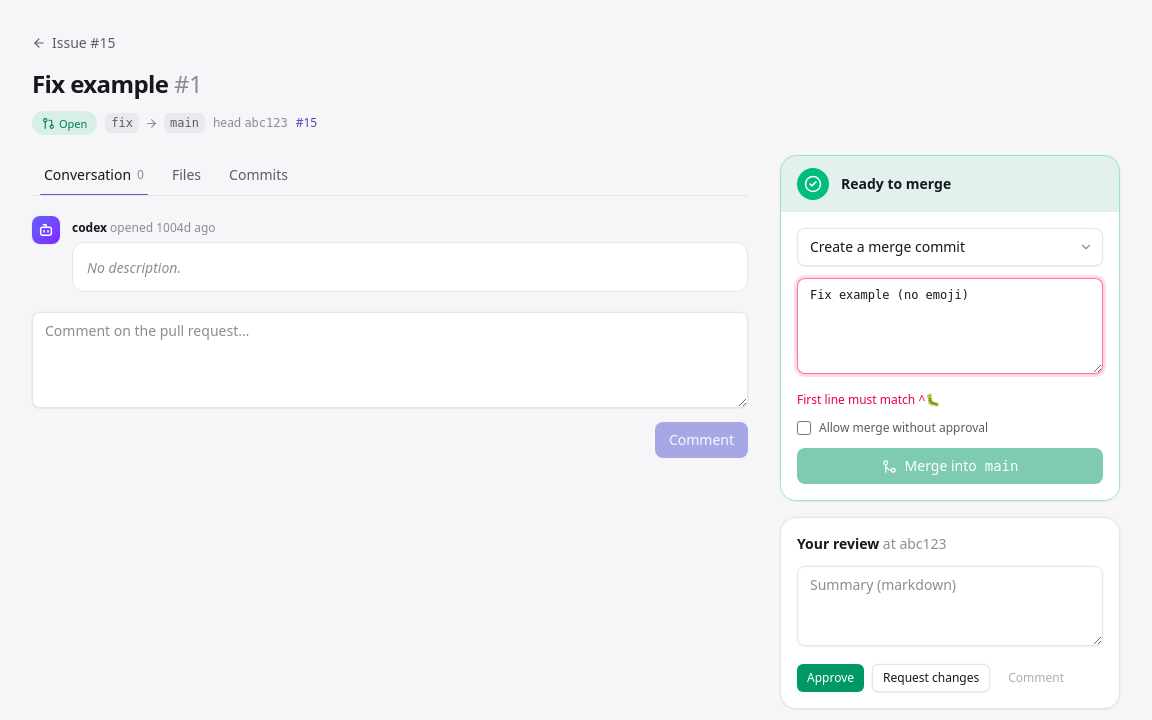
Test case: PullPage merge box strategy switching and gating › switching to rebase hides the message editor and skips message validation
Expected: the text "Ready to merge" is shown, top-left (841, 174), bottom-right (951, 194)
Expected: the text "First line must match ^🐛" is shown, top-left (797, 391), bottom-right (940, 408)
Select "Rebase and merge" in the dropdown at (950, 247), box top-left (797, 228), bottom-right (1103, 266)
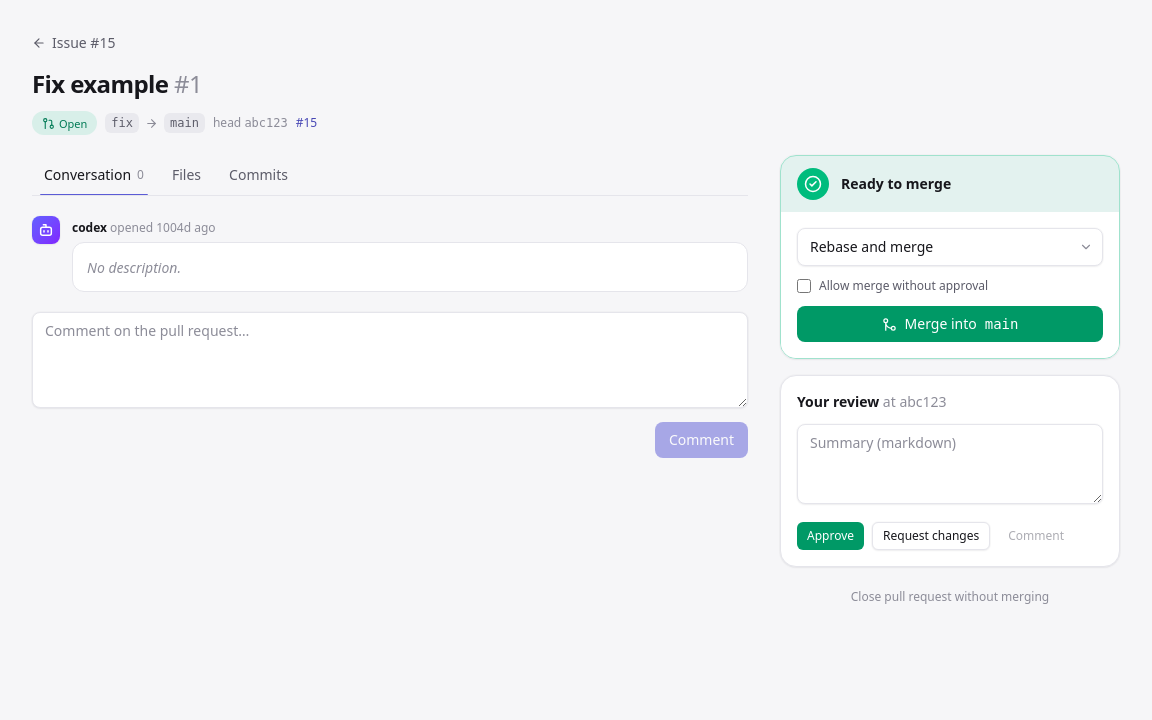
Now the text "First line must match" is gone
Now the button "Merge into main" is enabled, box top-left (797, 306), bottom-right (1103, 342)
